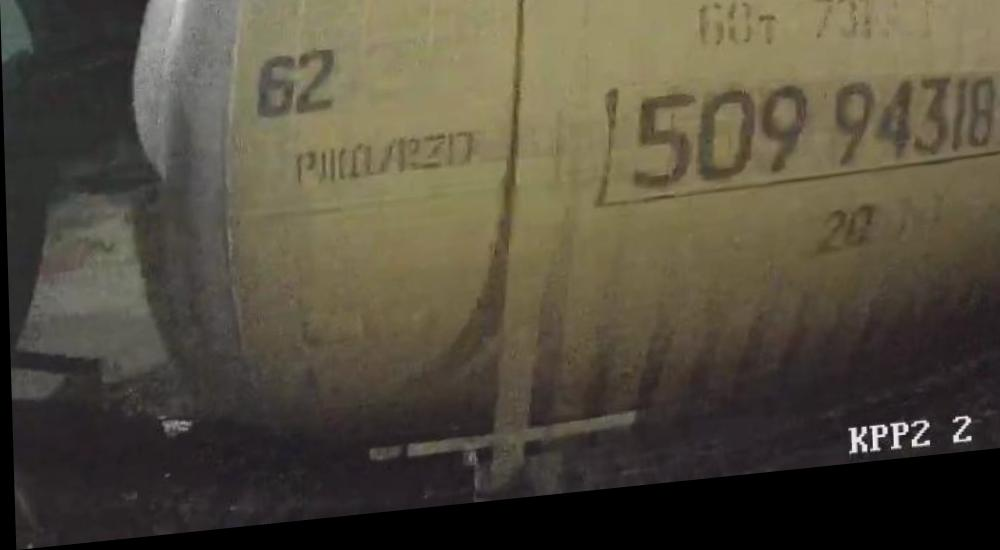Wagon-number: (624, 74, 999, 206)
